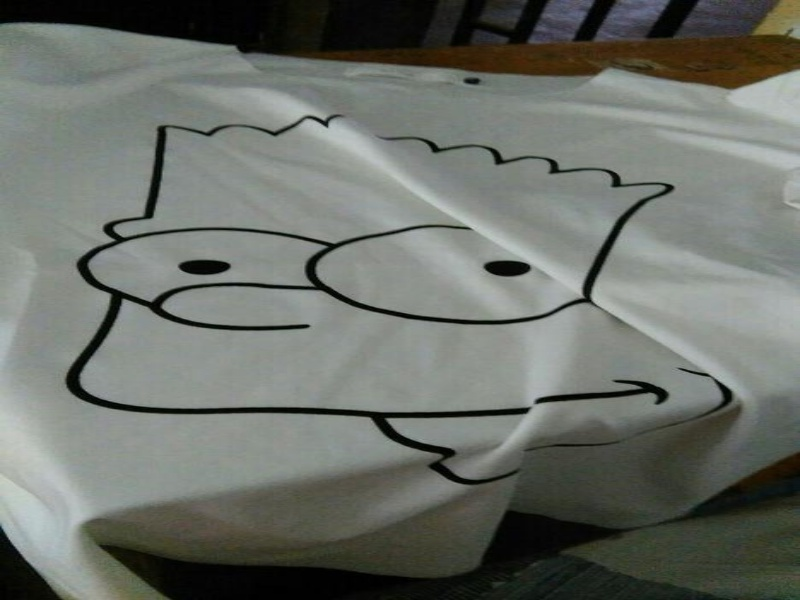short_sleeved_shirt: (0, 20, 798, 599)
